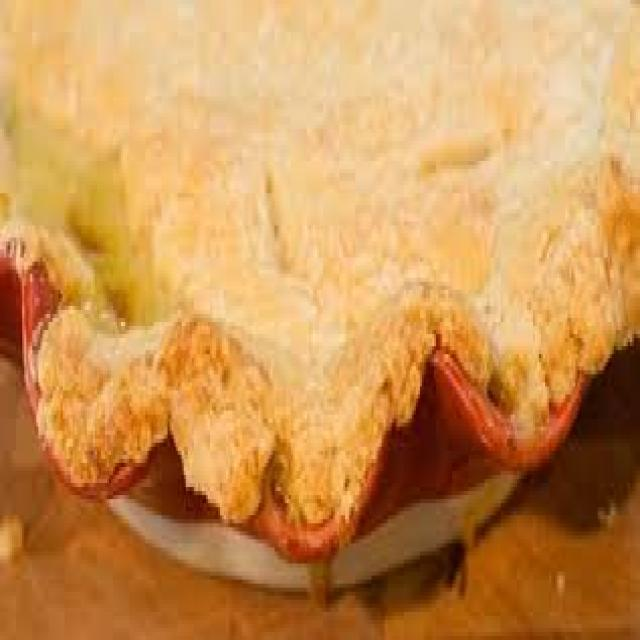organic waste: (0, 0, 638, 555)
